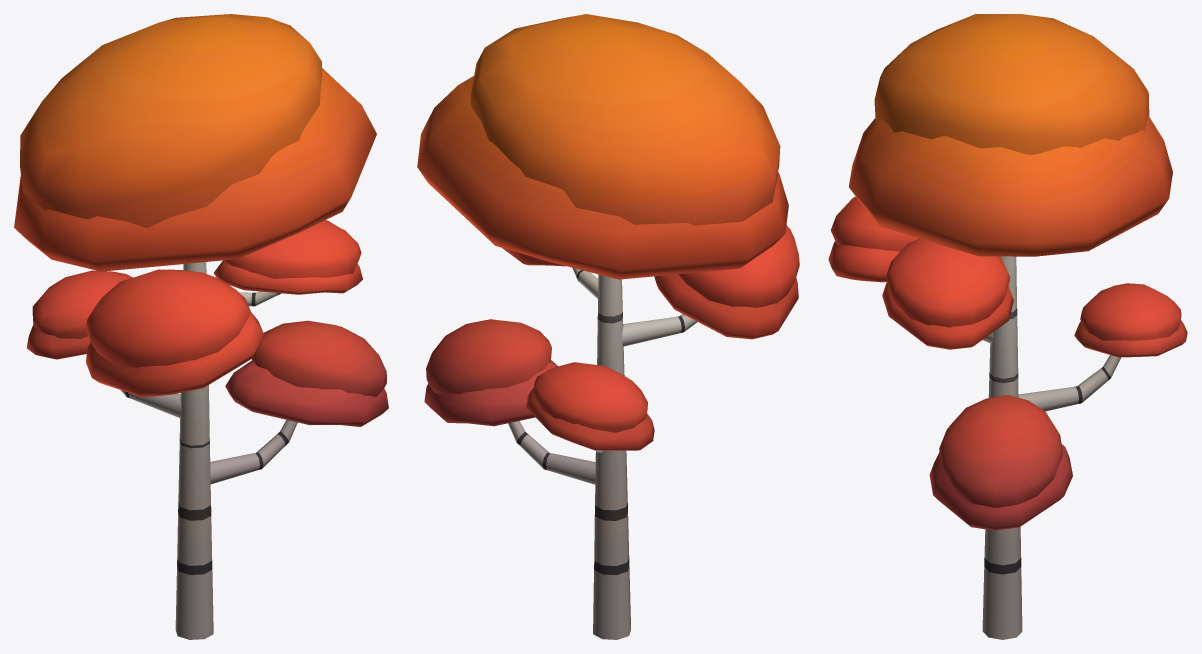
Rendered from Tree_22.fbx.
The picture shows the model from 3 angles, left to right: view 1: azimuth 30°, elevation 25°; view 2: azimuth 150°, elevation 25°; view 3: azimuth 270°, elevation 25°; orthographic projection.
Visible parts, largest first — view 1: Tree_22; view 2: Tree_22; view 3: Tree_22.
Boxes of the visible parts, x1,y1,x2,y2 form: Tree_22: [14, 14, 388, 639]; Tree_22: [417, 14, 799, 639]; Tree_22: [828, 14, 1187, 639].
Bounding box in the file's own units: 293 × 480 × 259.
